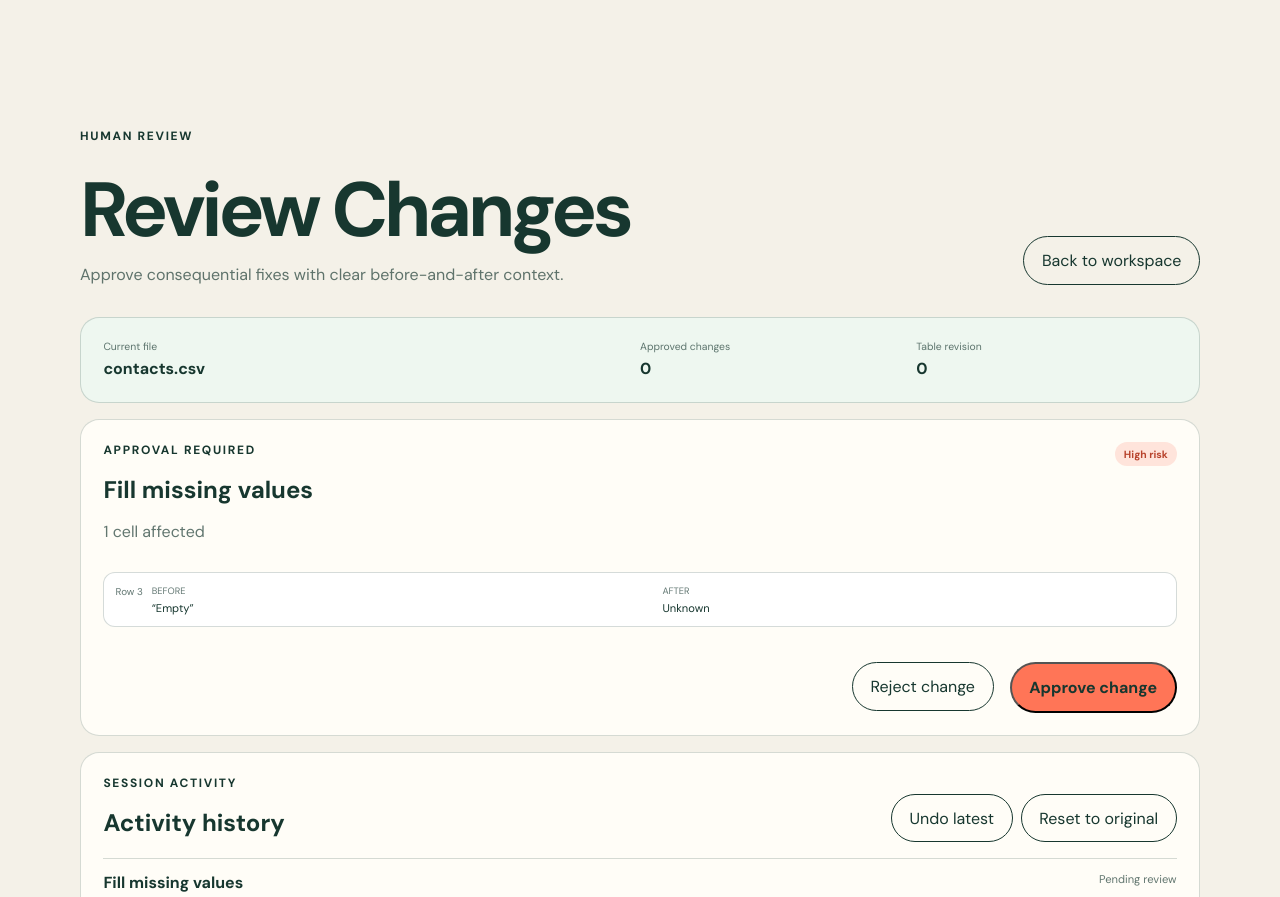
Test: ReviewChangesPage › requires centered confirmation before approving
Check: the heading "Fill missing values" is shown, box [103,474,313,505]
Click the button "Approve change": coordinates (1093, 687) [1010,662,1177,712]
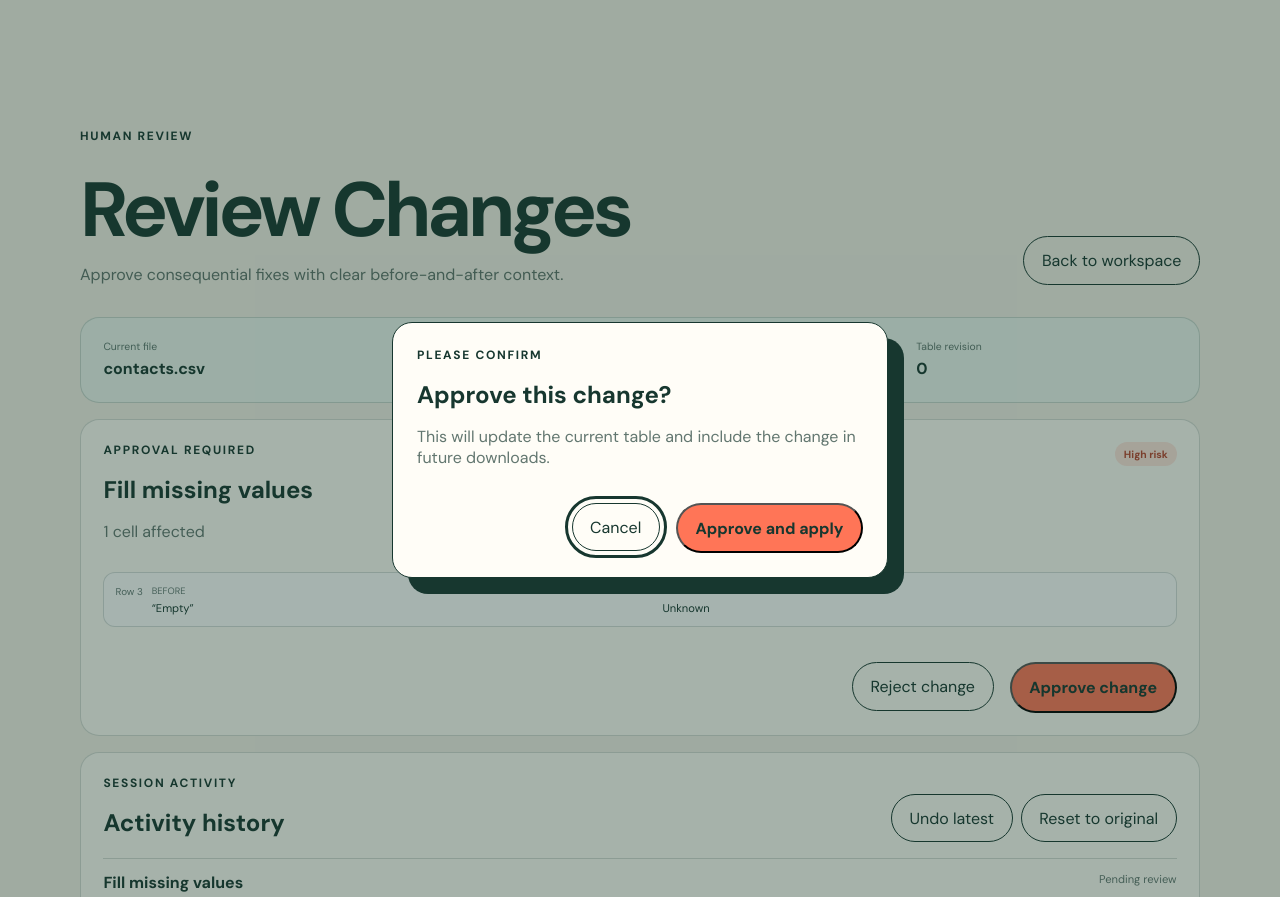
Check: the dialog "Approve this change?" shows "This will update the current table", box [417,426,856,468]
Click the button "Approve and apply": coordinates (769, 528) [676,503,863,553]
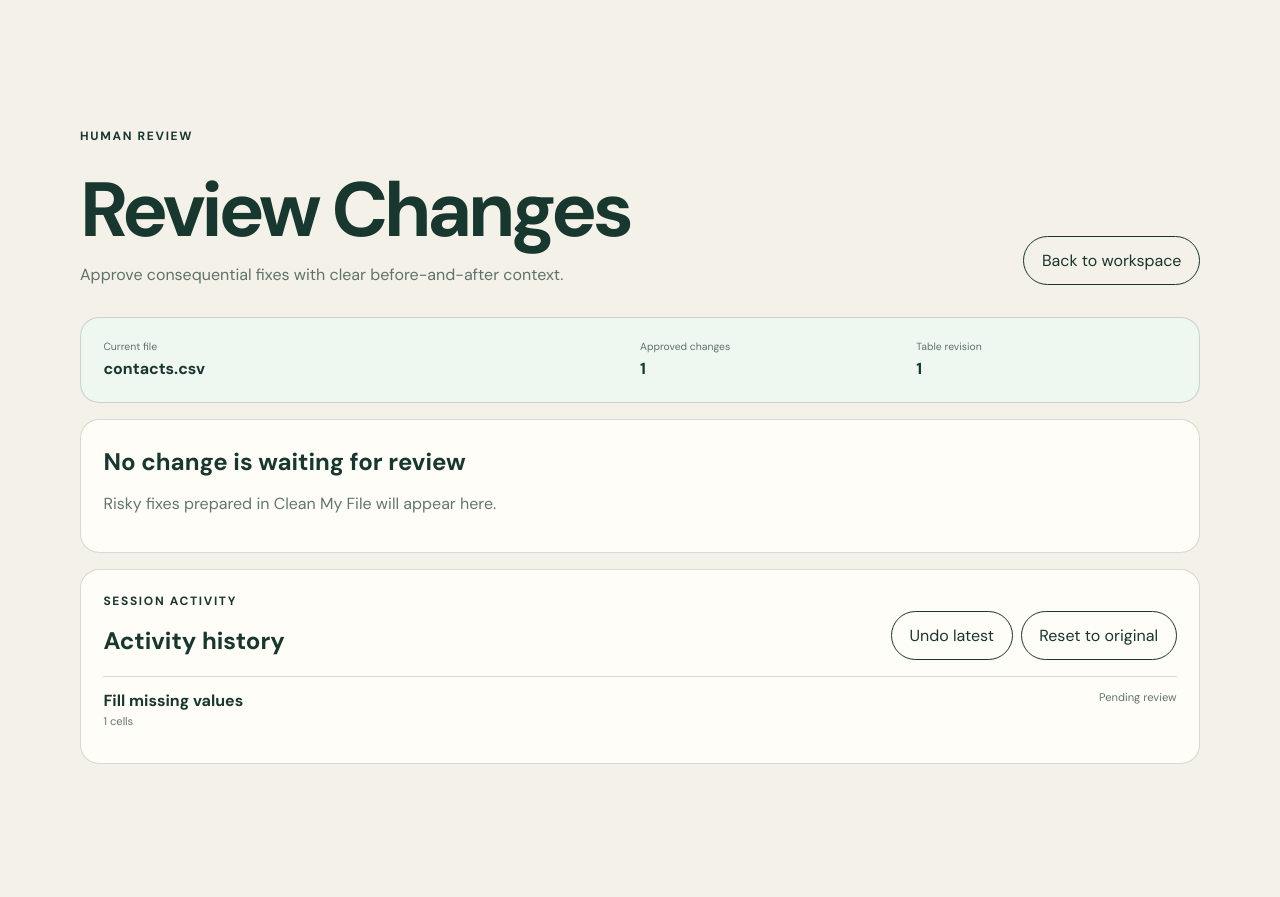
Check: the dialog is gone
Check: the heading "No change is waiting for review" is shown, box [103,446,466,477]
